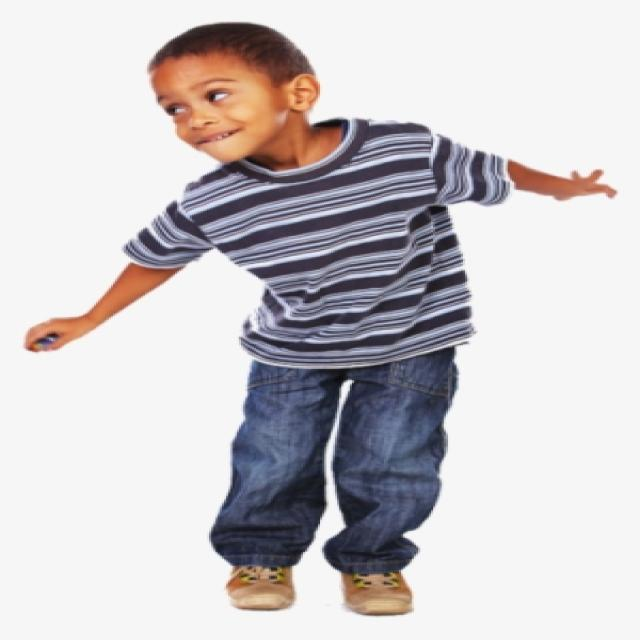child: (6, 10, 640, 640)
